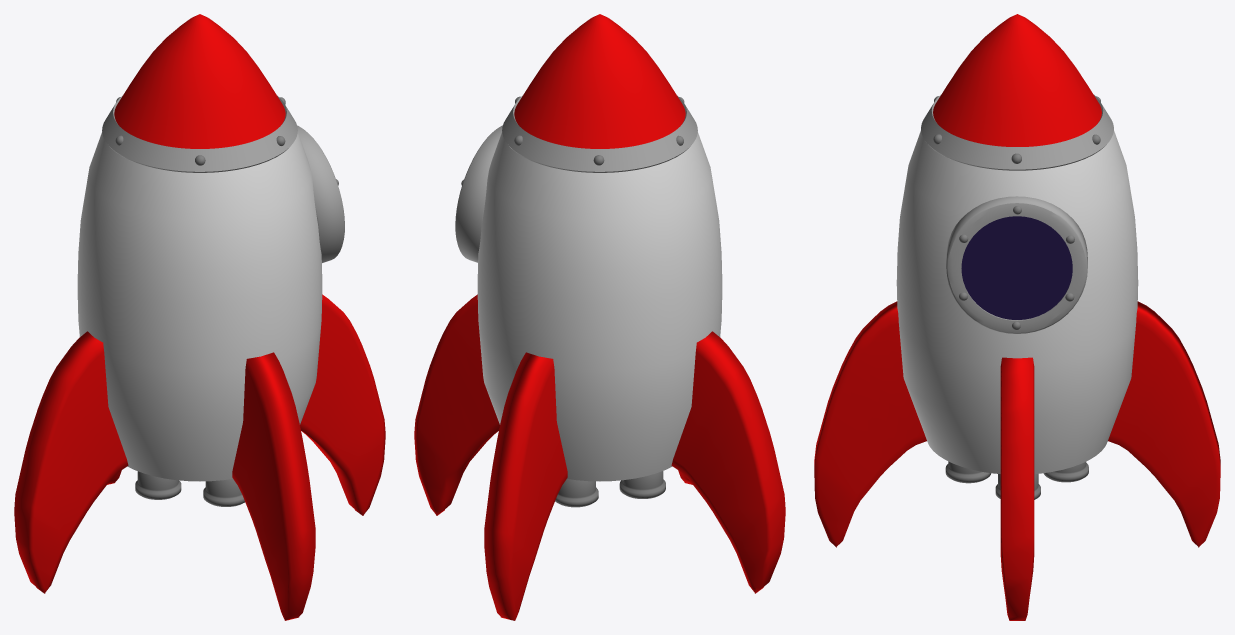
The model's file is rocket.glb.
The picture shows the model from 3 angles, left to right: view 1: azimuth 30°, elevation 25°; view 2: azimuth 150°, elevation 25°; view 3: azimuth 270°, elevation 25°; orthographic projection.
Visible parts, largest first — view 1: Cylinder, Cube, Cylinder.001, Cylinder.002, Cylinder.003, Cylinder.005; view 2: Cylinder, Cube, Cylinder.001, Cylinder.002, Cylinder.003, Cylinder.005; view 3: Cylinder, Cube, Cylinder.001, Cylinder.004, Cylinder.003, Cylinder.002, Cylinder.005.
Part boxes in pixels (x1=…): Cylinder: x1=77, y1=132, x2=322, y2=481; Cube: x1=14, y1=294, x2=385, y2=620; Cylinder.001: x1=114, y1=14, x2=285, y2=148; Cylinder.002: x1=102, y1=95, x2=297, y2=172; Cylinder.003: x1=248, y1=125, x2=344, y2=262; Cylinder.005: x1=135, y1=471, x2=244, y2=506; Cylinder: x1=477, y1=132, x2=722, y2=481; Cube: x1=414, y1=294, x2=785, y2=620; Cylinder.001: x1=514, y1=14, x2=685, y2=148; Cylinder.002: x1=502, y1=95, x2=697, y2=172; Cylinder.003: x1=455, y1=125, x2=551, y2=262; Cylinder.005: x1=555, y1=471, x2=665, y2=507; Cylinder: x1=896, y1=131, x2=1138, y2=473; Cube: x1=814, y1=301, x2=1220, y2=620; Cylinder.001: x1=933, y1=14, x2=1101, y2=146; Cylinder.004: x1=961, y1=216, x2=1072, y2=319; Cylinder.003: x1=946, y1=196, x2=1087, y2=333; Cylinder.002: x1=921, y1=95, x2=1113, y2=170; Cylinder.005: x1=945, y1=461, x2=1088, y2=499.
Bounding box in the file's own units: 6.52 × 9.39 × 6.52.
